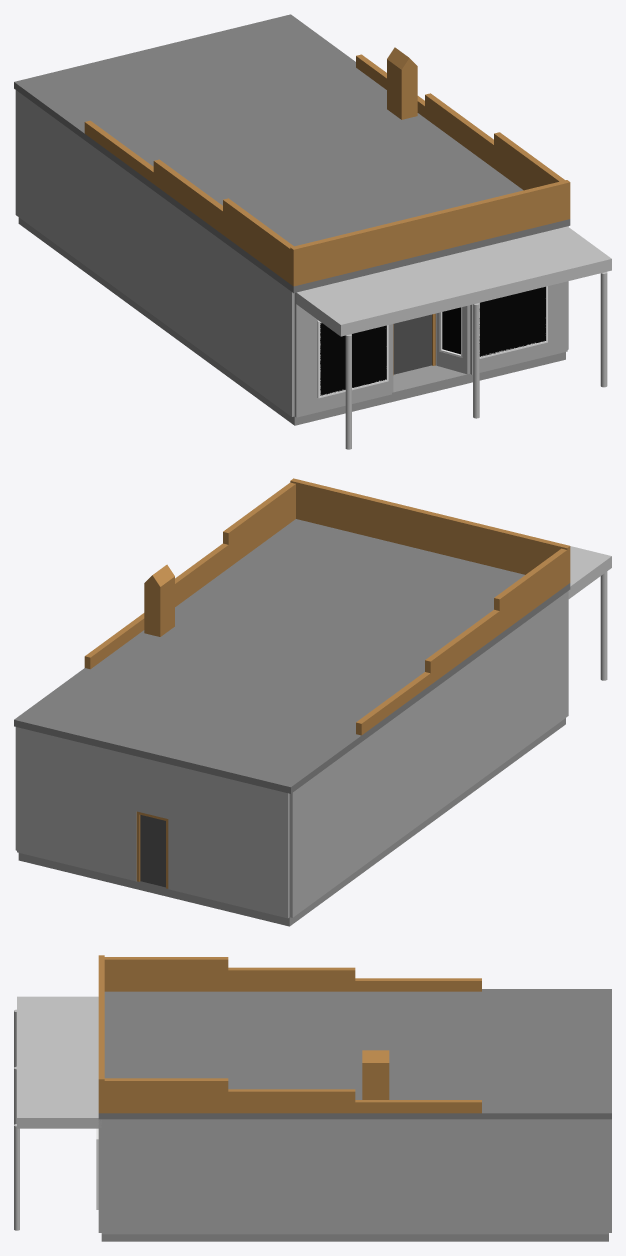
File: building_phase_1b_iter_018.glb
3 views of the same model, one above another, from view 1: azimuth 30°, elevation 25°; view 2: azimuth 150°, elevation 25°; view 3: azimuth 270°, elevation 25° (orthographic). The views are drawn at different scales.
Parts seen in each view (by area): view 1: Roof, Wall_Left, Canopy_Roof, Parapet_Front, Wall_Front, Foundation, Front_Right_Window_Glass, Front_Left_Window_Glass, Parapet_Left_Level_1, Parapet_Right_Level_1, Parapet_Left_Level_2, Parapet_Right_Level_2 (+10 smaller); view 2: Roof, Wall_Left, Wall_Rear, Parapet_Front, Foundation, Parapet_Left_Level_1, Parapet_Right_Level_1, Parapet_Left_Level_2, Rear_Service_Door_Panel, Parapet_Right_Level_2, Chimney, Canopy_Roof (+3 smaller); view 3: Wall_Right, Roof, Canopy_Roof, Parapet_Right_Level_1, Parapet_Left_Level_1, Foundation, Parapet_Left_Level_2, Parapet_Right_Level_2, Parapet_Left_Level_3, Parapet_Right_Level_3, Parapet_Front, Chimney (+2 smaller).
Part boxes in pixels (x1,y1,x2,y2): Roof: [14, 14, 570, 293]; Wall_Left: [15, 90, 294, 416]; Canopy_Roof: [296, 226, 611, 336]; Parapet_Front: [290, 180, 570, 286]; Wall_Front: [294, 281, 567, 417]; Foundation: [18, 217, 565, 425]; Front_Right_Window_Glass: [479, 286, 545, 356]; Front_Left_Window_Glass: [320, 323, 386, 395]; Parapet_Left_Level_1: [223, 198, 293, 283]; Parapet_Right_Level_1: [494, 132, 564, 190]; Parapet_Left_Level_2: [153, 159, 222, 234]; Parapet_Right_Level_2: [425, 93, 493, 168]; Roof: [14, 519, 570, 793]; Wall_Left: [289, 591, 568, 917]; Wall_Rear: [17, 727, 289, 918]; Parapet_Front: [290, 478, 570, 584]; Foundation: [18, 718, 565, 926]; Parapet_Left_Level_1: [494, 548, 567, 633]; Parapet_Right_Level_1: [223, 482, 295, 567]; Parapet_Left_Level_2: [425, 609, 499, 684]; Rear_Service_Door_Panel: [140, 815, 165, 887]; Parapet_Right_Level_2: [175, 543, 228, 606]; Chimney: [144, 576, 174, 636]; Canopy_Roof: [568, 546, 611, 598]; Wall_Right: [101, 1119, 608, 1234]; Roof: [98, 989, 611, 1119]; Canopy_Roof: [17, 996, 101, 1128]; Parapet_Right_Level_1: [101, 1078, 228, 1113]; Parapet_Left_Level_1: [104, 957, 228, 991]; Foundation: [101, 1234, 608, 1241]; Parapet_Left_Level_2: [228, 967, 355, 991]; Parapet_Right_Level_2: [228, 1089, 355, 1113]; Parapet_Left_Level_3: [355, 978, 481, 991]; Parapet_Right_Level_3: [355, 1100, 481, 1113]; Parapet_Front: [98, 955, 104, 1113]; Chimney: [362, 1063, 389, 1099].
Bounding box in the file's own units: 8.68 × 6.03 × 17.68.
